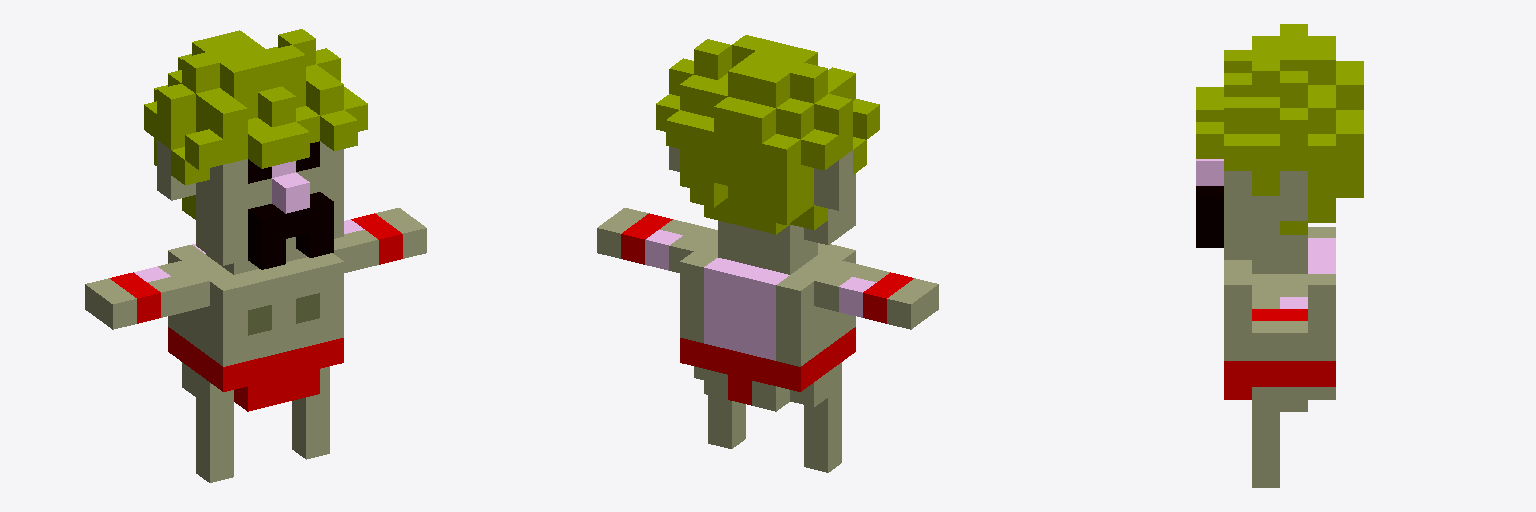
The picture shows the model from 3 angles: view 1: azimuth 30°, elevation 25°; view 2: azimuth 150°, elevation 25°; view 3: azimuth 270°, elevation 25°; orthographic projection.
Parts seen in each view (by area): view 1: object 1; view 2: object 1; view 3: object 1.
Boxes of the visible parts, x1=… form: object 1: x1=85, y1=29, x2=426, y2=482; object 1: x1=597, y1=35, x2=938, y2=472; object 1: x1=1196, y1=24, x2=1363, y2=487.
Bounding box in the file's own units: 1.3 × 1.6 × 0.6.
Materials: 1 (1 with a texture image).